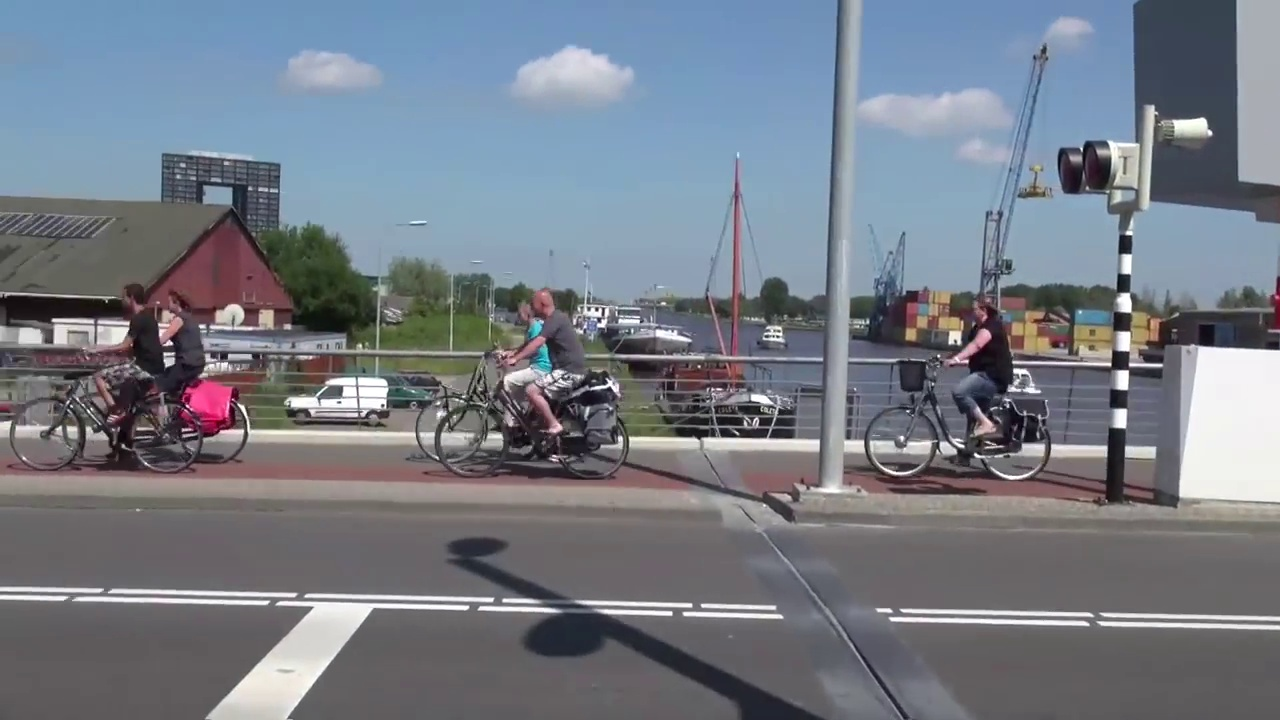cyclist_side: (864, 273, 1067, 500), (439, 292, 632, 479), (10, 286, 204, 472), (154, 283, 256, 469)
